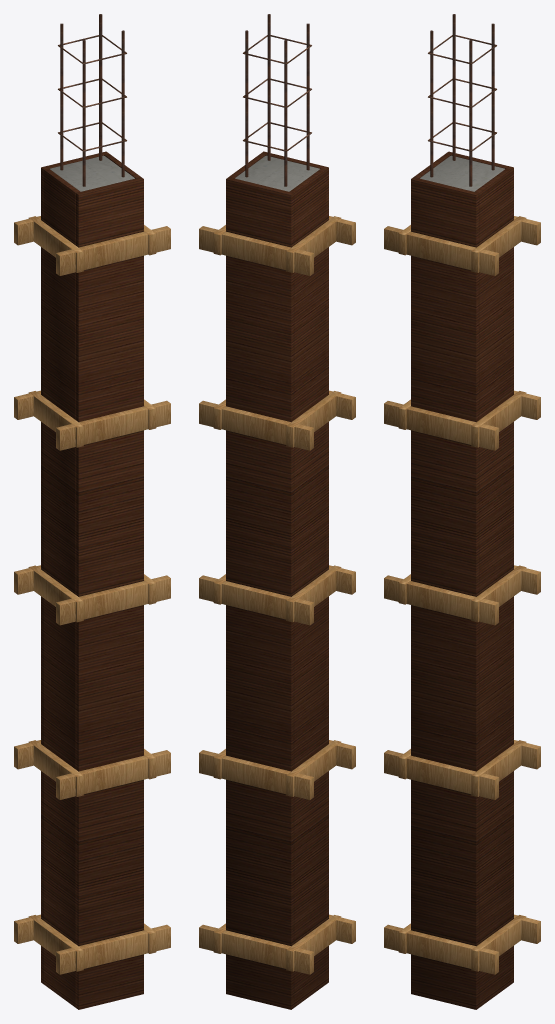
File: KIT-EST-01.glb
3 renders of one model, left to right at view 1: azimuth 30°, elevation 25°; view 2: azimuth 150°, elevation 25°; view 3: azimuth 330°, elevation 25°, orthographic.
Parts seen in each view (by area): view 1: KIT-EST-01_fy, KIT-EST-01_fx, KIT-EST-01_grav.016, KIT-EST-01_grav.004, KIT-EST-01_grav, KIT-EST-01_grav.008, KIT-EST-01_grav.012, KIT-EST-01_fy.001, KIT-EST-01_pilar, KIT-EST-01_grav.014, KIT-EST-01_grav.002, KIT-EST-01_grav.006 (+11 smaller); view 2: KIT-EST-01_fy.001, KIT-EST-01_fx, KIT-EST-01_grav.005, KIT-EST-01_grav.017, KIT-EST-01_grav.009, KIT-EST-01_grav.013, KIT-EST-01_grav.001, KIT-EST-01_fy, KIT-EST-01_pilar, KIT-EST-01_grav.006, KIT-EST-01_grav.002, KIT-EST-01_grav.014 (+11 smaller); view 3: KIT-EST-01_fy, KIT-EST-01_fx.001, KIT-EST-01_grav.004, KIT-EST-01_grav.016, KIT-EST-01_grav.008, KIT-EST-01_grav, KIT-EST-01_grav.012, KIT-EST-01_fy.001, KIT-EST-01_pilar, KIT-EST-01_grav.015, KIT-EST-01_grav.003, KIT-EST-01_grav.007 (+11 smaller).
Boxes of the visible parts, <box> form: KIT-EST-01_fy: <box>76,177,143,1009</box>; KIT-EST-01_fx: <box>43,168,80,1007</box>; KIT-EST-01_grav.016: <box>56,226,170,275</box>; KIT-EST-01_grav.004: <box>56,750,170,799</box>; KIT-EST-01_grav: <box>56,924,170,974</box>; KIT-EST-01_grav.008: <box>56,575,170,625</box>; KIT-EST-01_grav.012: <box>56,400,170,450</box>; KIT-EST-01_fy.001: <box>41,151,108,983</box>; KIT-EST-01_pilar: <box>50,155,134,191</box>; KIT-EST-01_grav.014: <box>28,391,83,447</box>; KIT-EST-01_grav.002: <box>28,915,83,971</box>; KIT-EST-01_grav.006: <box>28,740,83,796</box>; KIT-EST-01_fy.001: <box>226,177,293,1009</box>; KIT-EST-01_fx: <box>289,168,326,1007</box>; KIT-EST-01_grav.005: <box>199,750,313,799</box>; KIT-EST-01_grav.017: <box>199,226,313,275</box>; KIT-EST-01_grav.009: <box>199,575,313,625</box>; KIT-EST-01_grav.013: <box>199,400,313,450</box>; KIT-EST-01_grav.001: <box>199,924,313,974</box>; KIT-EST-01_fy: <box>261,151,328,983</box>; KIT-EST-01_pilar: <box>235,155,319,191</box>; KIT-EST-01_grav.006: <box>286,740,341,796</box>; KIT-EST-01_grav.002: <box>286,915,341,971</box>; KIT-EST-01_grav.014: <box>286,391,341,447</box>; KIT-EST-01_fy: <box>411,177,478,1009</box>; KIT-EST-01_fx.001: <box>474,168,511,1007</box>; KIT-EST-01_grav.004: <box>384,750,498,799</box>; KIT-EST-01_grav.016: <box>384,226,498,275</box>; KIT-EST-01_grav.008: <box>384,575,498,625</box>; KIT-EST-01_grav: <box>384,924,498,974</box>; KIT-EST-01_grav.012: <box>384,401,498,450</box>; KIT-EST-01_fy.001: <box>446,151,513,983</box>; KIT-EST-01_pilar: <box>420,155,504,191</box>; KIT-EST-01_grav.015: <box>471,391,526,447</box>; KIT-EST-01_grav.003: <box>471,915,526,971</box>; KIT-EST-01_grav.007: <box>471,740,526,796</box>.
Size of the model in its own units: 0.4 by 3.3 by 0.3.
4 materials, 4 textured.
